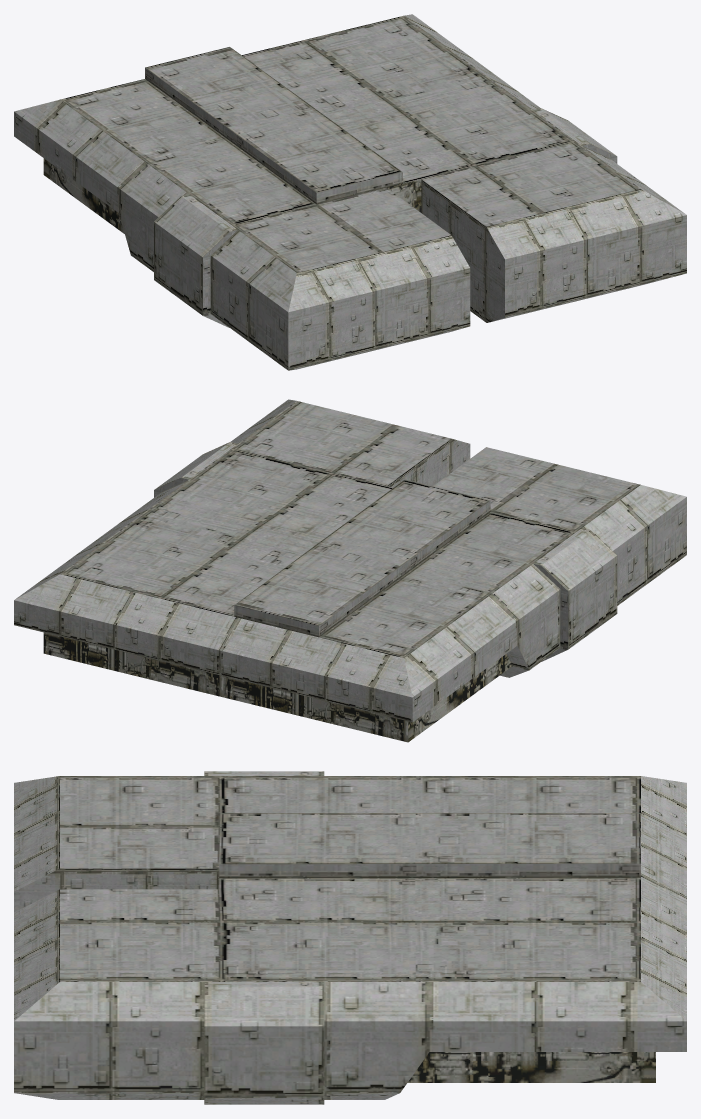
Rendered from ins_all_def_turret_sm_s01_turret_l0.fbx.
3 renders of one model, top to bottom at view 1: azimuth 30°, elevation 25°; view 2: azimuth 150°, elevation 25°; view 3: azimuth 270°, elevation 25°, orthographic. The views are drawn at different scales.
Parts seen in each view (by area): view 1: mesh_node; view 2: mesh_node; view 3: mesh_node.
Part boxes in pixels (left/top/right/bottom): mesh_node: left=14, top=14, right=686, bottom=370; mesh_node: left=14, top=399, right=686, bottom=742; mesh_node: left=14, top=771, right=686, bottom=1104.
Bounding box in the file's own units: 1.43 × 0.3539 × 1.64.
